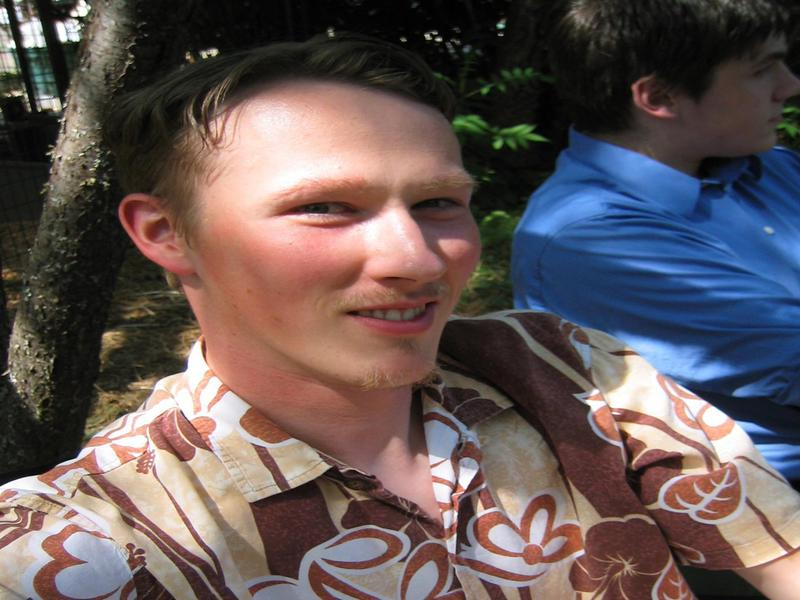person: (17, 41, 799, 598), (510, 3, 800, 470)
